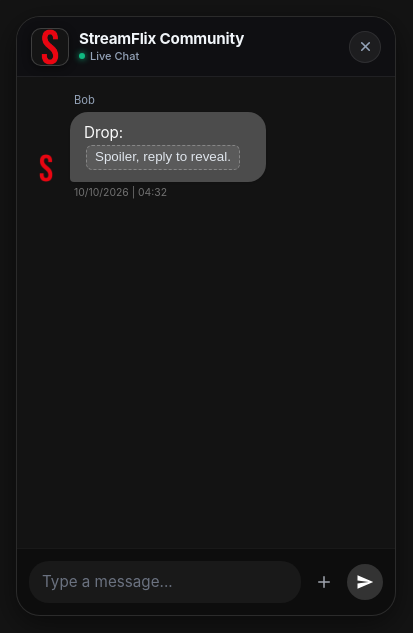
Test: GlobalChat Reply-Gated Spoilers › renders lock chip for locked user and reveals secret when unlocked
This screenshot has width=413, height=633.
expect the element with id "msg-msg_other" is shown: met, box left=32, top=93, right=266, bottom=199
Clicking lock button arms reply
Click the button with class "gc-spoiler-chip" at (163, 158), box left=86, top=145, right=240, bottom=170
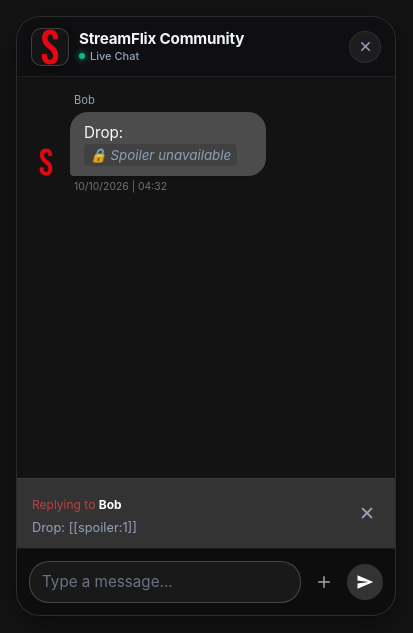
expect the element with class "gc-reply-bar" is shown: met, box left=17, top=478, right=395, bottom=548
